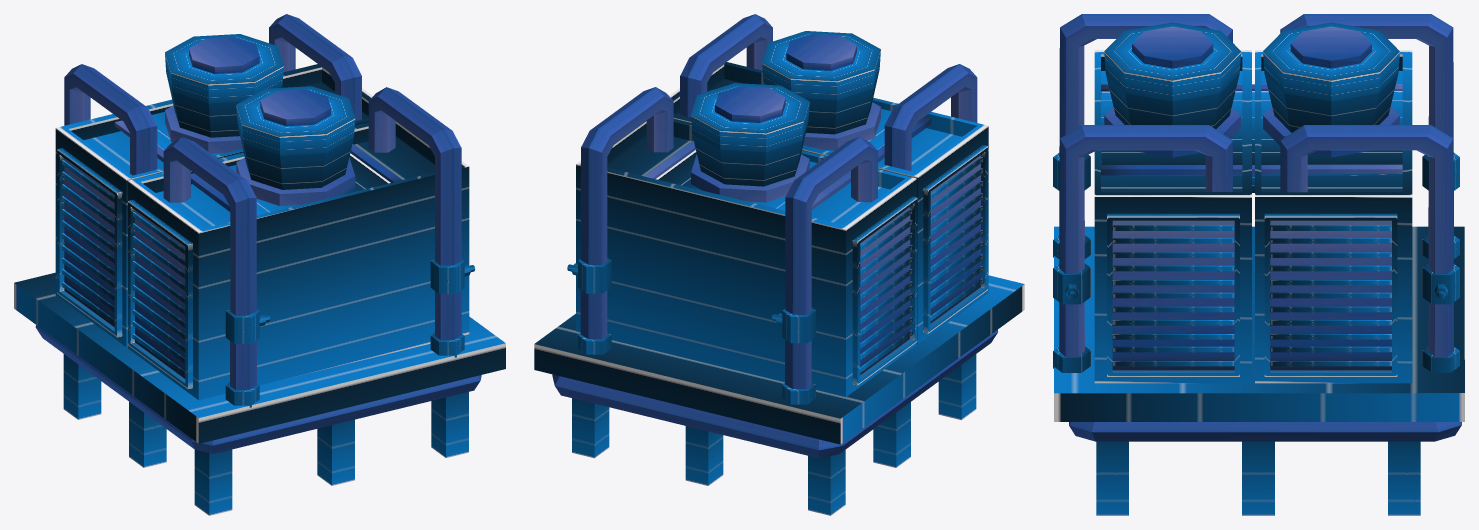
File: device1.obj
3 renders of one model, left to right at view 1: azimuth 30°, elevation 25°; view 2: azimuth 150°, elevation 25°; view 3: azimuth 270°, elevation 25°, orthographic. The views are drawn at different scales.
Size of the model in its own units: 999 by 1110 by 1044.
2 materials, 2 textured.
